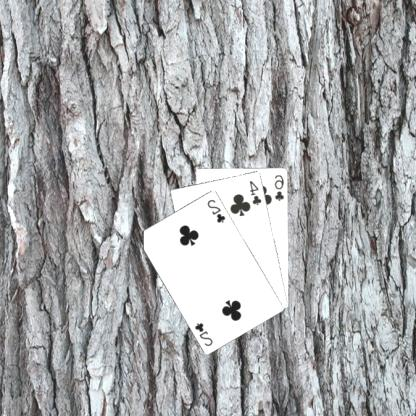2C: (206, 196, 228, 224), (194, 320, 216, 348)
4C: (249, 177, 265, 206)
6C: (274, 172, 288, 202)
